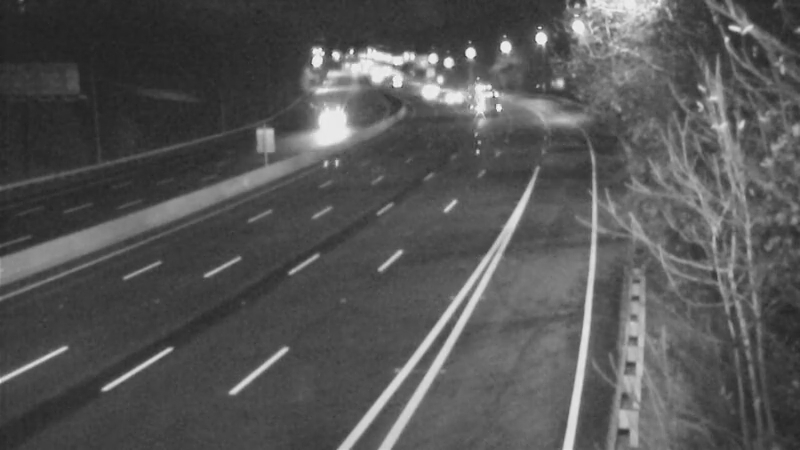vehicle: (371, 56, 421, 106), (455, 63, 505, 113), (404, 63, 454, 113), (428, 73, 478, 123), (462, 74, 512, 124), (298, 98, 348, 148)
